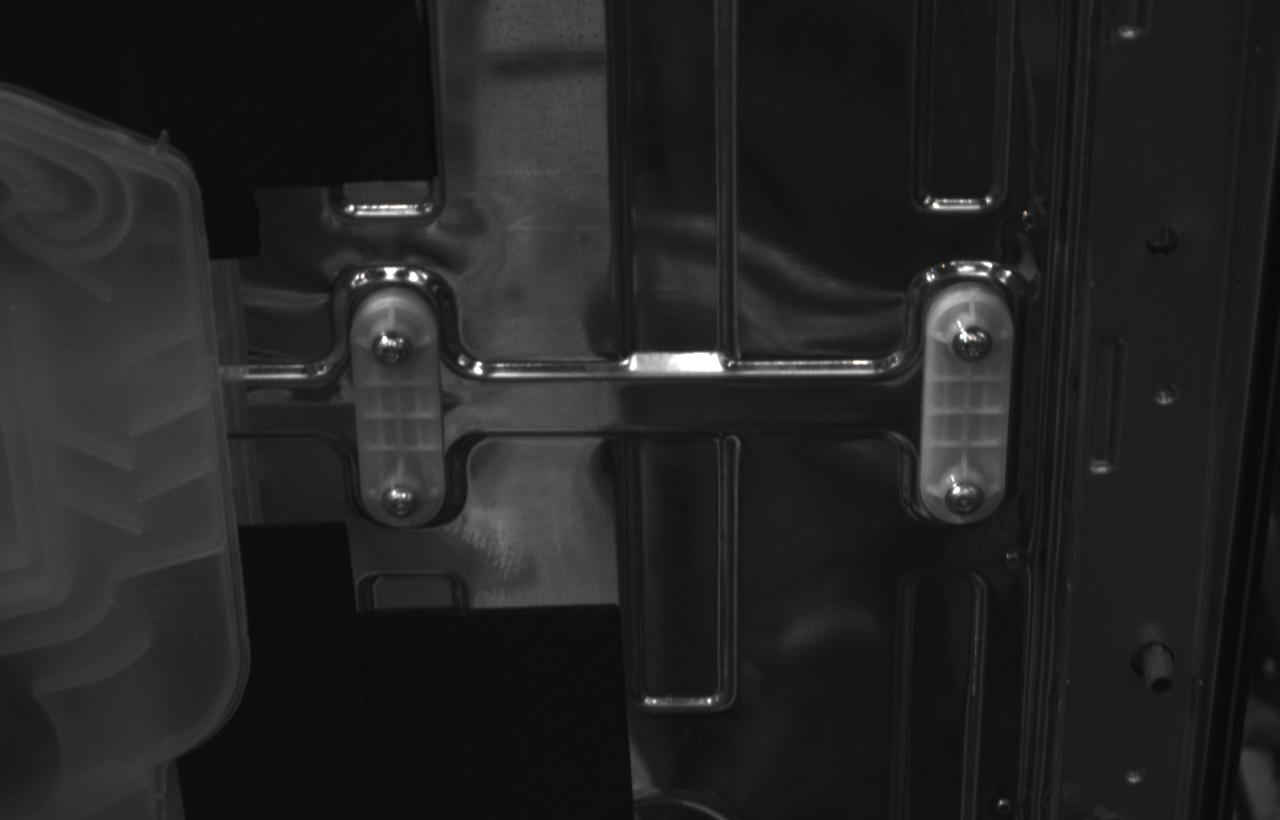vida-ok: (372, 330, 413, 367), (952, 326, 993, 363), (945, 481, 985, 516), (381, 485, 419, 519)
